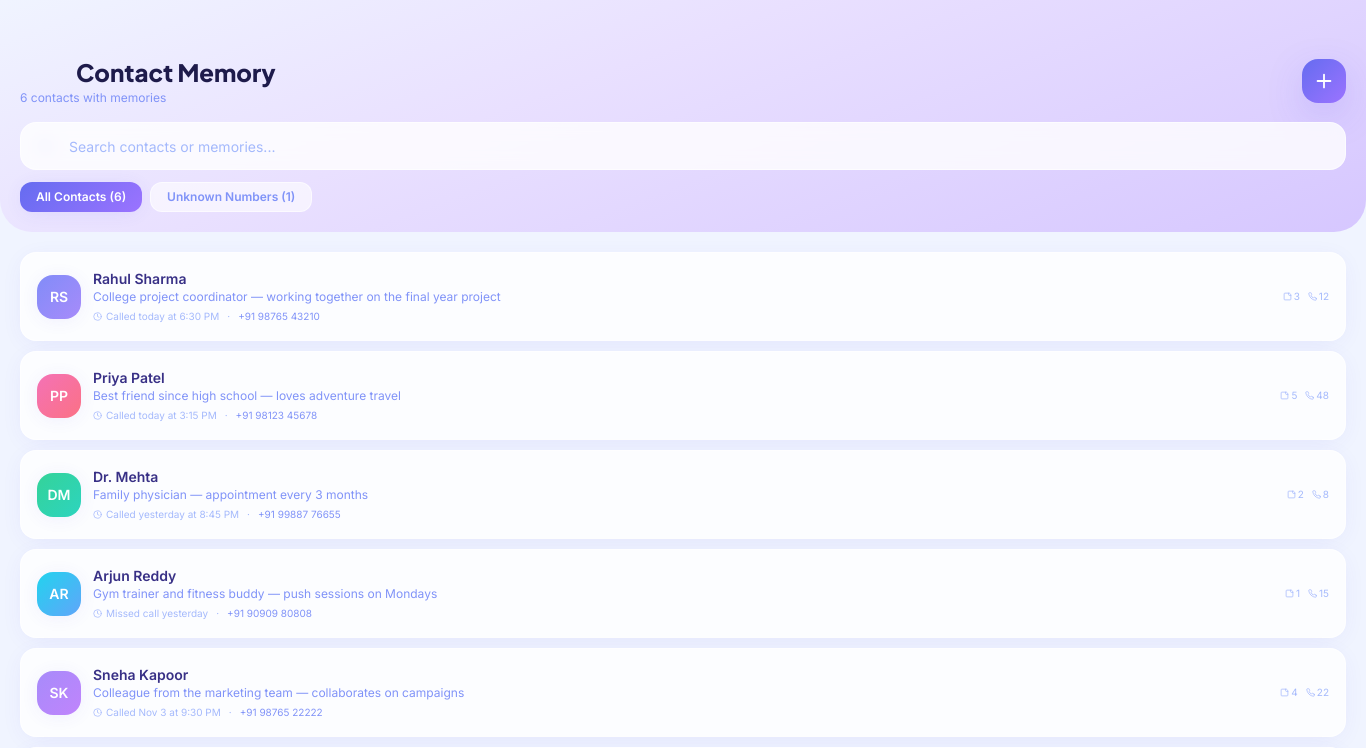
Test: ContactsScreen › filters by Unknown Numbers button
Step 1. Click the button "Unknown Numbers (1)" → (231, 197), box [150,182,312,212]
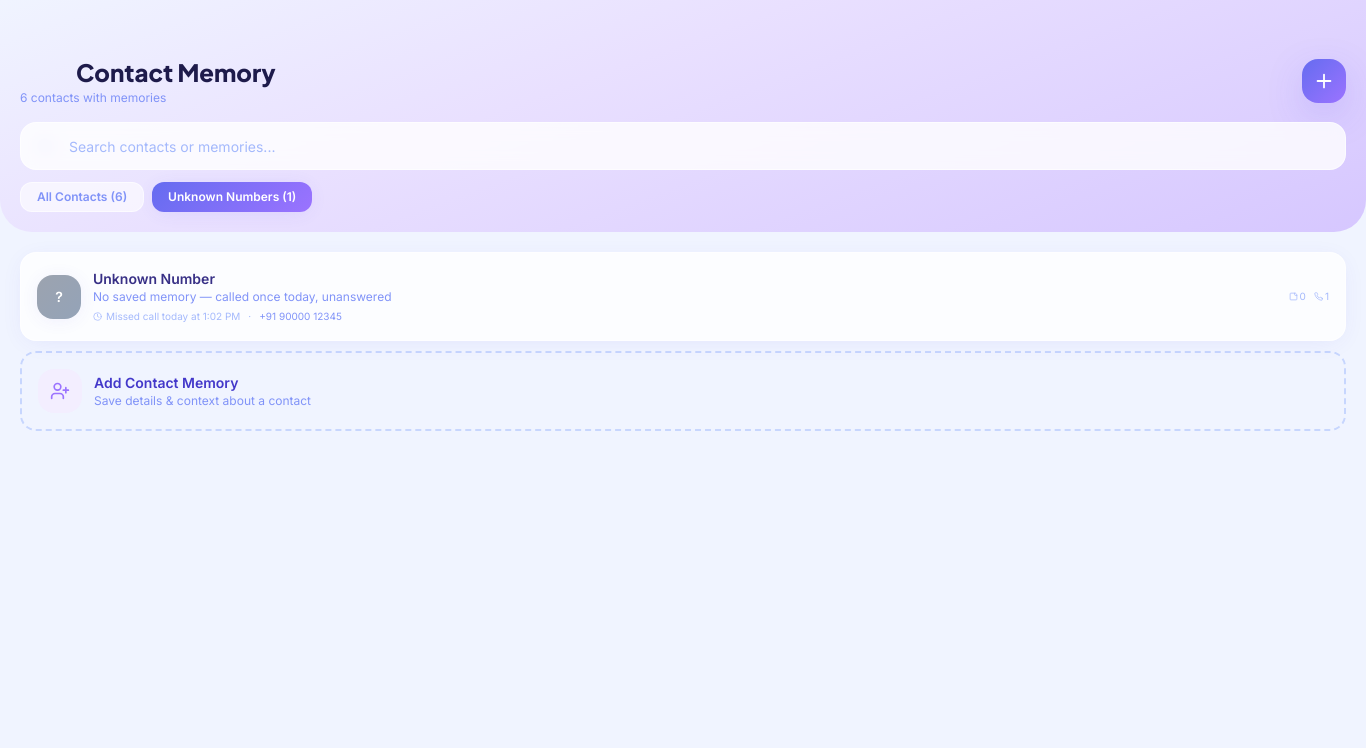
Check: the text "Unknown Number" is shown, box [93,270,215,287]
Check: the button "Rahul Sharma" is gone
